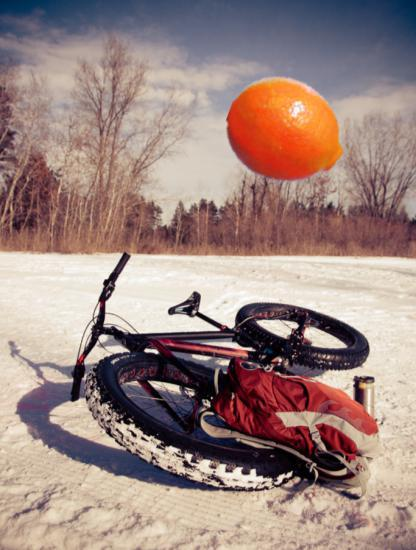Tangelo: (226, 71, 348, 193)
